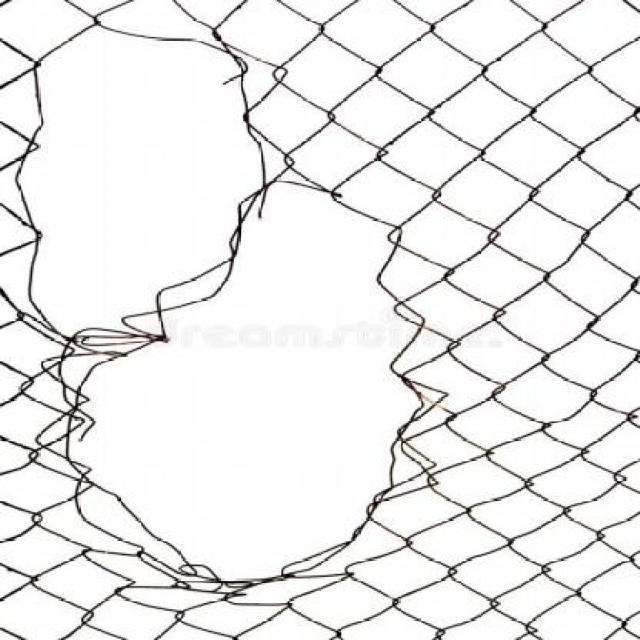fence line: (103, 216, 417, 559), (18, 31, 244, 311)
